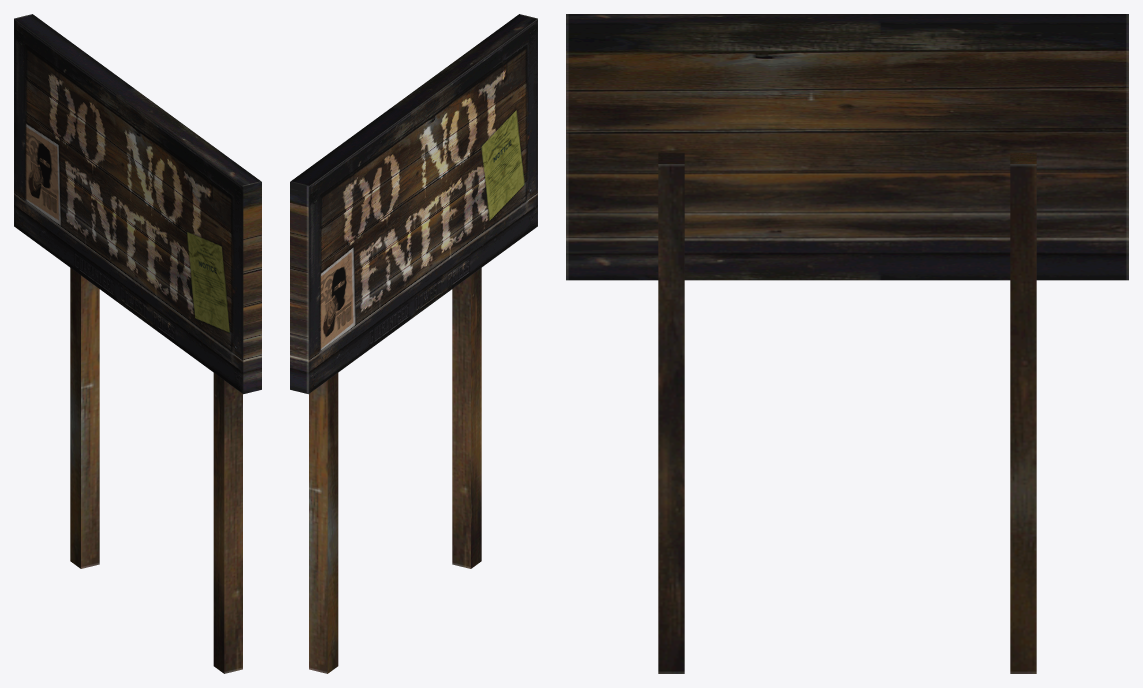
The model's file is minesign3.fbx.
The picture shows the model from 3 angles, left to right: view 1: azimuth 30°, elevation 25°; view 2: azimuth 150°, elevation 25°; view 3: azimuth 270°, elevation 25°; orthographic projection. The views are drawn at different scales.
Visible parts, largest first — view 1: minesign3; view 2: minesign3; view 3: minesign3.
Part boxes in pixels (x1,y1,x2,y2): minesign3: [14, 14, 261, 673]; minesign3: [290, 14, 537, 673]; minesign3: [566, 14, 1128, 673].
Size of the model in its own units: 1200 by 16000 by 12800.
